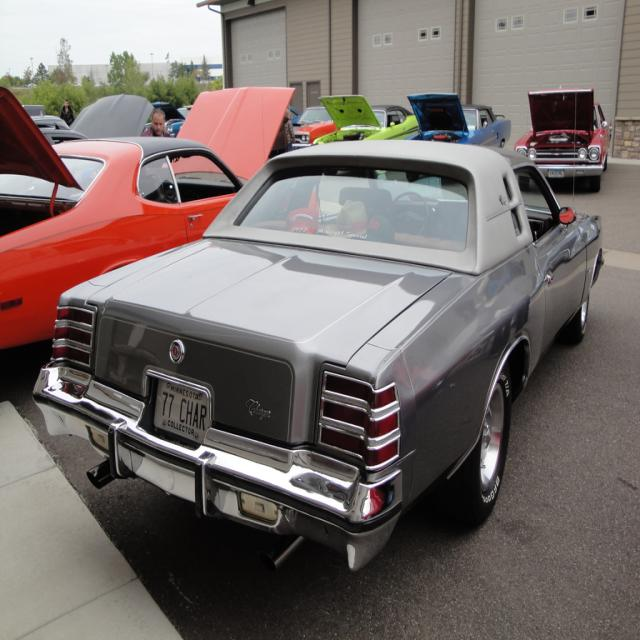car: (32, 117, 577, 566), (0, 78, 294, 352), (510, 86, 614, 196), (36, 85, 158, 146), (410, 91, 516, 146), (311, 92, 419, 141)
